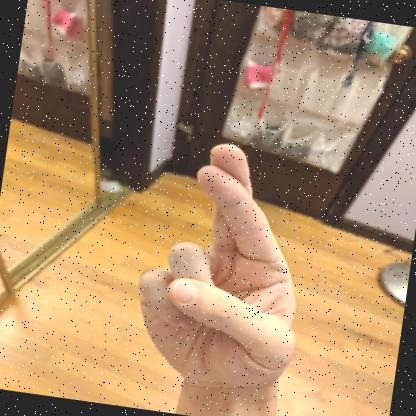R: (137, 143, 295, 399)
